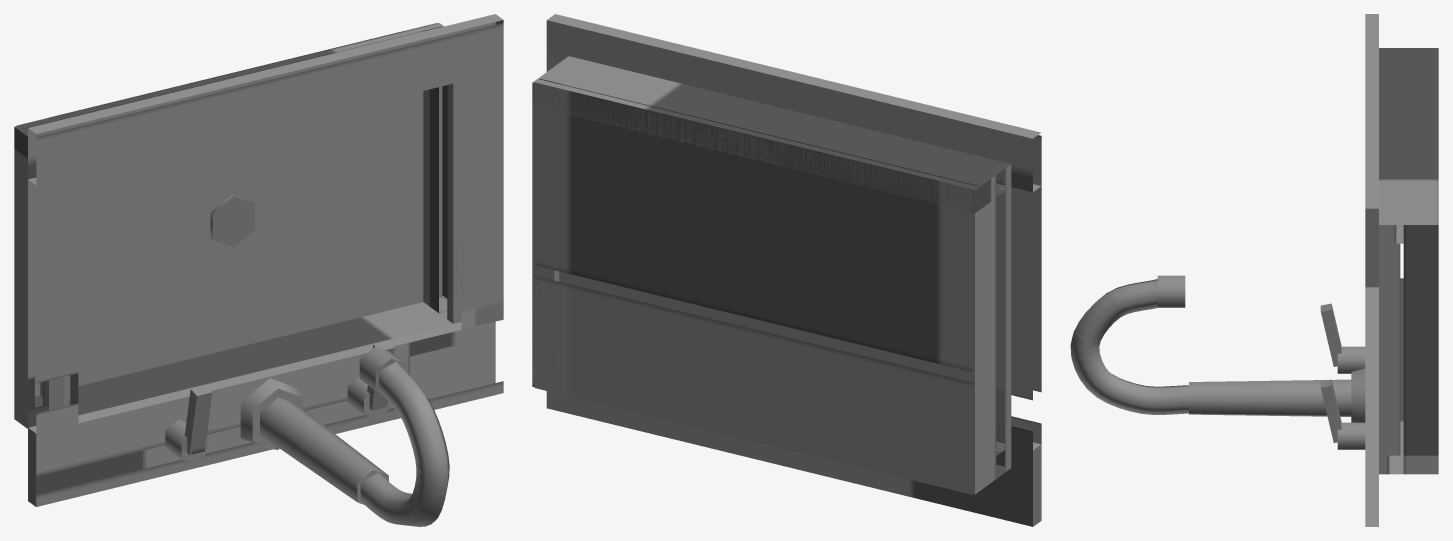
3 views of the same model, side by side, from view 1: azimuth 30°, elevation 25°; view 2: azimuth 150°, elevation 25°; view 3: azimuth 270°, elevation 25° (orthographic). The views are drawn at different scales.
Bounding box in the file's own units: 0.666 × 0.508 × 0.5322.
